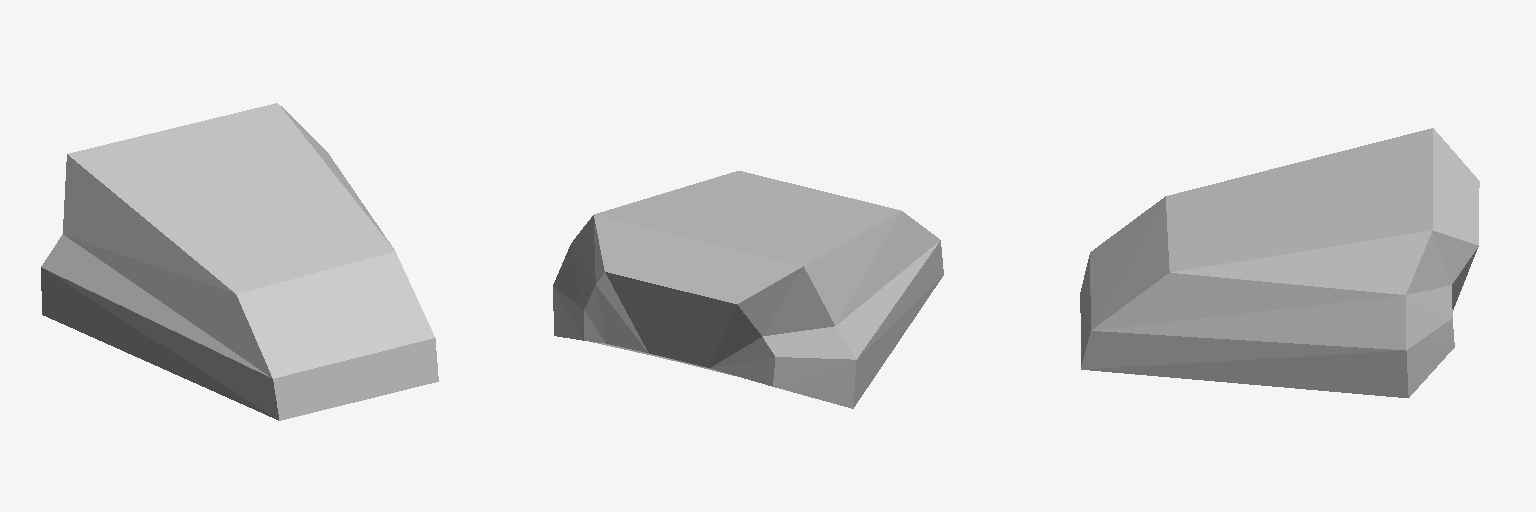
The model's file is ltoes.obj.
The picture shows the model from 3 angles: view 1: azimuth 30°, elevation 25°; view 2: azimuth 150°, elevation 25°; view 3: azimuth 270°, elevation 25°; orthographic projection.
Parts seen in each view (by area): view 1: 2; view 2: 2; view 3: 2.
Boxes of the visible parts, x1=… form: 2: x1=41, y1=103, x2=438, y2=420; 2: x1=553, y1=171, x2=943, y2=408; 2: x1=1080, y1=128, x2=1479, y2=397.
Bounding box in the file's own units: 0.0679 × 0.0313 × 0.0773.